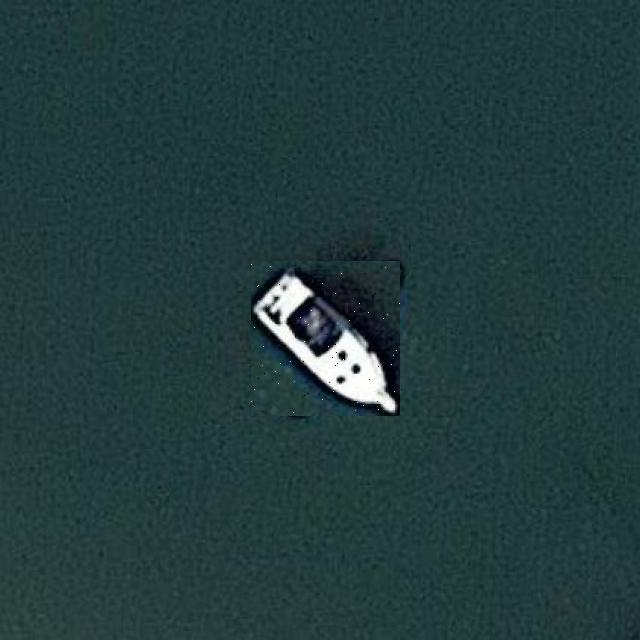boat: (249, 263, 402, 415)
